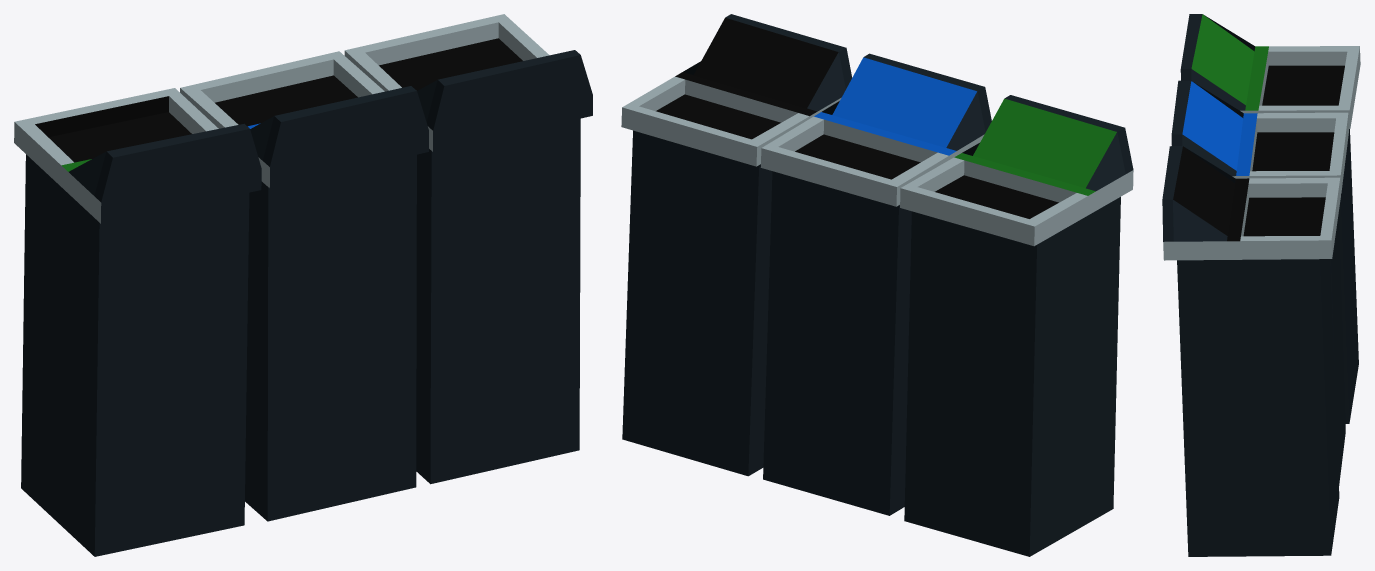
File: bins3.glb
3 views of the same model, side by side, from view 1: azimuth 30°, elevation 25°; view 2: azimuth 150°, elevation 25°; view 3: azimuth 270°, elevation 25° (orthographic). The views are drawn at different scales.
Parts seen in each view (by area): view 1: bins3; view 2: bins3; view 3: bins3.
Boxes of the visible parts, box(x1,y1,x2,y2) form: bins3: box(14, 14, 592, 556); bins3: box(621, 14, 1133, 556); bins3: box(1162, 14, 1360, 556).
Bounding box in the file's own units: 0.6124 × 0.5 × 0.2527.
